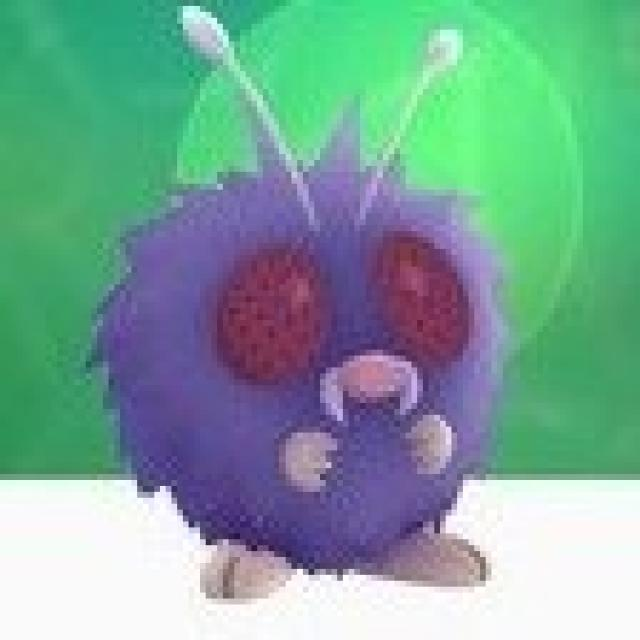Venonat: (104, 143, 504, 588)
